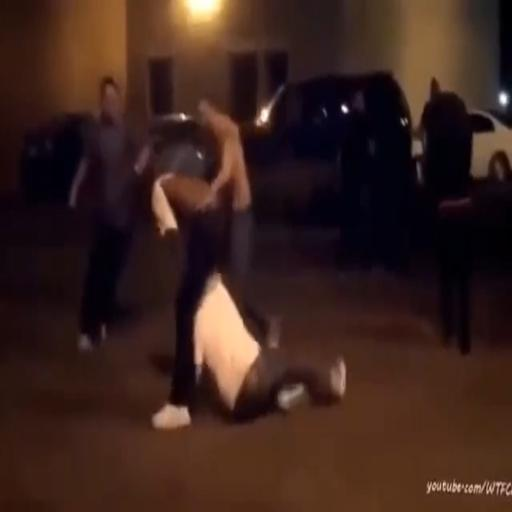violencia: (110, 76, 362, 448)
